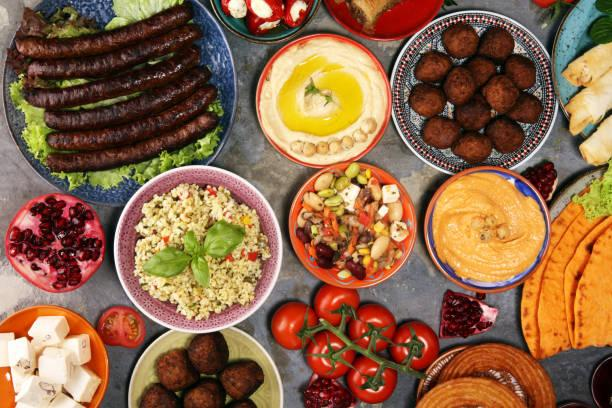Braised Crucian Carp: (6, 0, 237, 207), (388, 10, 554, 178), (113, 165, 278, 332), (255, 31, 389, 167), (287, 162, 414, 288), (423, 167, 549, 292), (123, 330, 286, 408)
